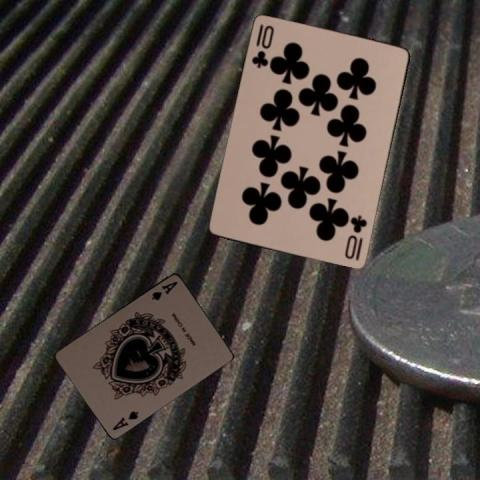10c: (342, 213, 369, 262), (249, 21, 275, 70)
As: (109, 407, 140, 432), (149, 278, 179, 302)
